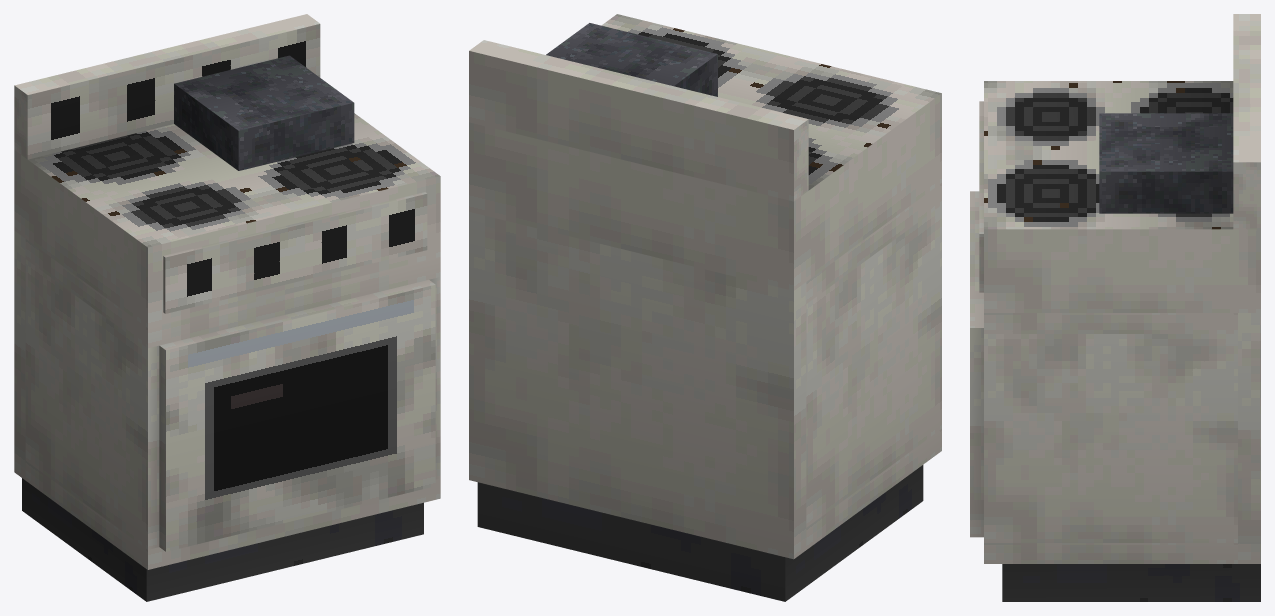
File: stove_white.glb
3 renders of one model, left to right at view 1: azimuth 30°, elevation 25°; view 2: azimuth 150°, elevation 25°; view 3: azimuth 270°, elevation 25°, orthographic. The views are drawn at different scales.
Parts seen in each view (by area): view 1: stove_white, stove_white_door; view 2: stove_white; view 3: stove_white, stove_white_door.
Boxes of the visible parts, left/top/right/bottom form: stove_white: left=14, top=14, right=440, bottom=601; stove_white_door: left=159, top=280, right=435, bottom=551; stove_white: left=469, top=14, right=941, bottom=601; stove_white: left=979, top=14, right=1260, bottom=601; stove_white_door: left=970, top=191, right=983, bottom=537.
Size of the model in its own units: 0.76 by 1.06 by 0.63.
Materials: 1 (1 with a texture image).
